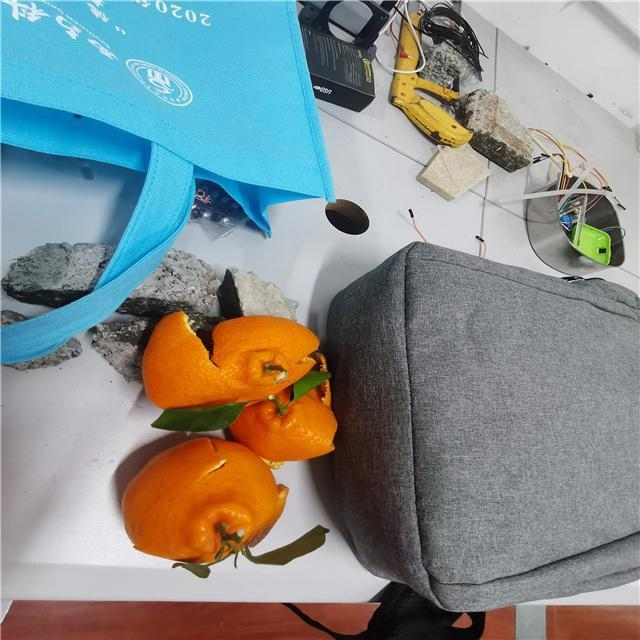orange peel: (120, 438, 286, 562), (143, 313, 321, 409), (229, 384, 339, 457)
